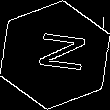N_W: (25, 31, 85, 79)
